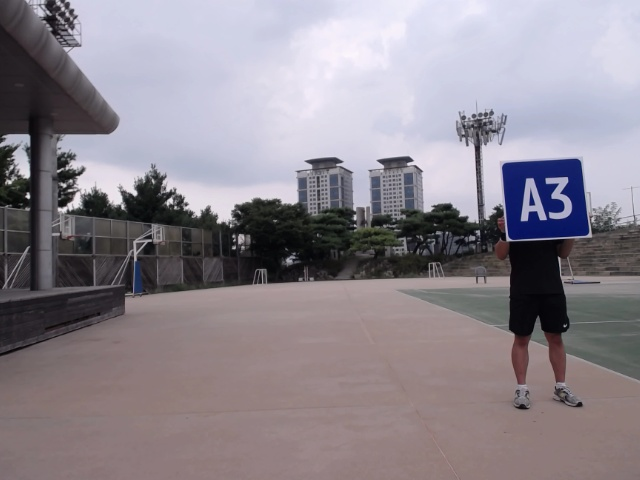delivery_a3: (502, 157, 590, 241)
